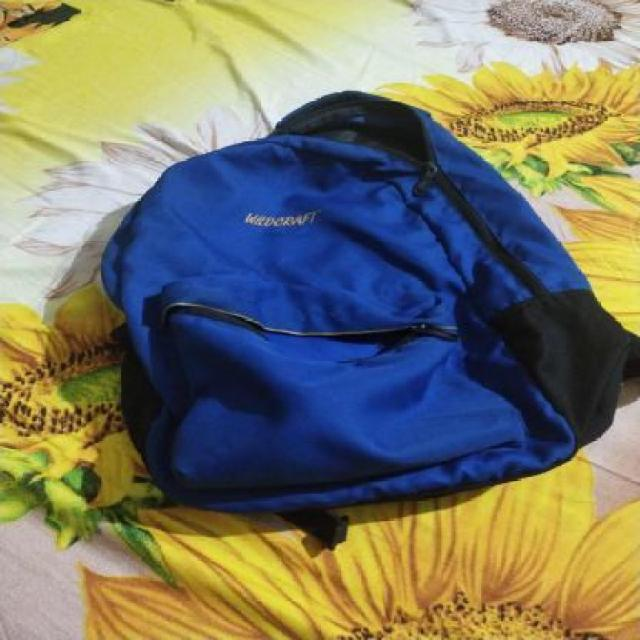backpack: (94, 85, 640, 520)
